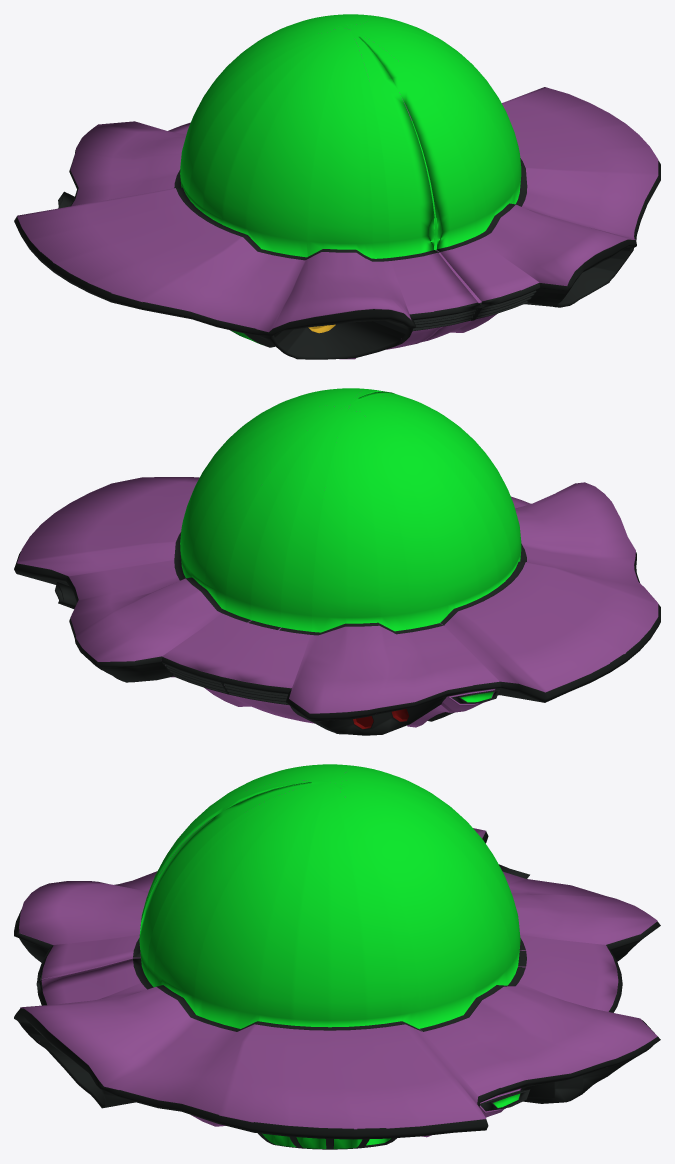
Rendered from spaceship.glb.
The picture shows the model from 3 angles, top to bottom: view 1: azimuth 30°, elevation 25°; view 2: azimuth 150°, elevation 25°; view 3: azimuth 270°, elevation 25°; orthographic projection. The views are drawn at different scales.
Visible parts, largest first — view 1: Sphere; view 2: Sphere; view 3: Sphere.
Part boxes in pixels (x1,y1,x2,y2): Sphere: (14,14,660,359); Sphere: (14,388,660,735); Sphere: (14,764,660,1149).
Bounding box in the file's own units: 3.85 × 1.89 × 3.36.
1 material, 1 textured.
